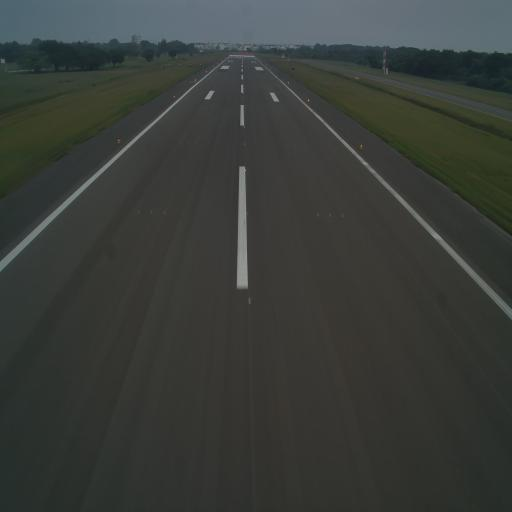off: (327, 210, 333, 222), (148, 206, 154, 216), (161, 206, 166, 218), (338, 213, 345, 221), (245, 208, 250, 218), (315, 210, 321, 218), (178, 139, 184, 146), (135, 208, 140, 216), (186, 140, 191, 148), (300, 143, 304, 150), (194, 140, 198, 146), (286, 142, 289, 149), (293, 142, 296, 149)
on: (247, 294, 253, 310), (116, 137, 122, 144), (242, 123, 248, 129), (244, 166, 248, 174), (360, 142, 364, 149), (243, 140, 246, 146)
